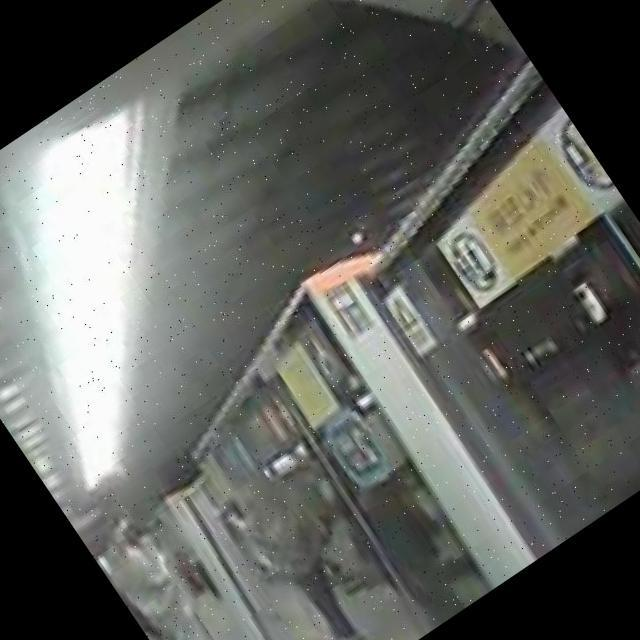person: (217, 461, 384, 640), (79, 525, 232, 640)
